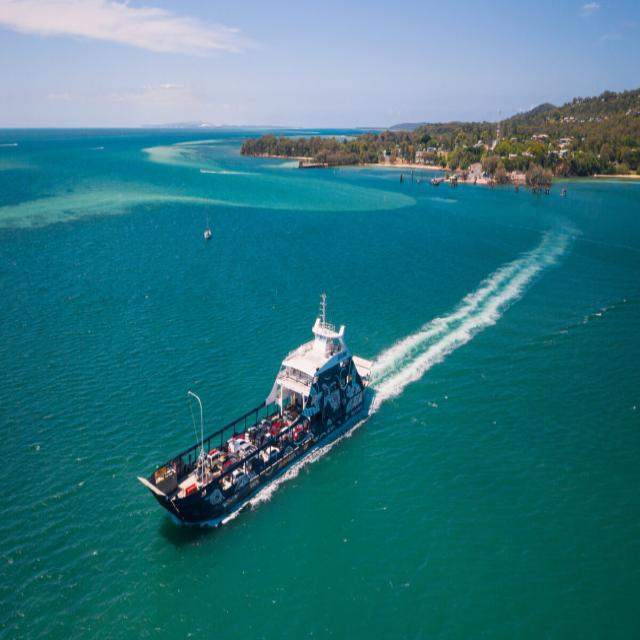boat: (131, 262, 379, 576)
